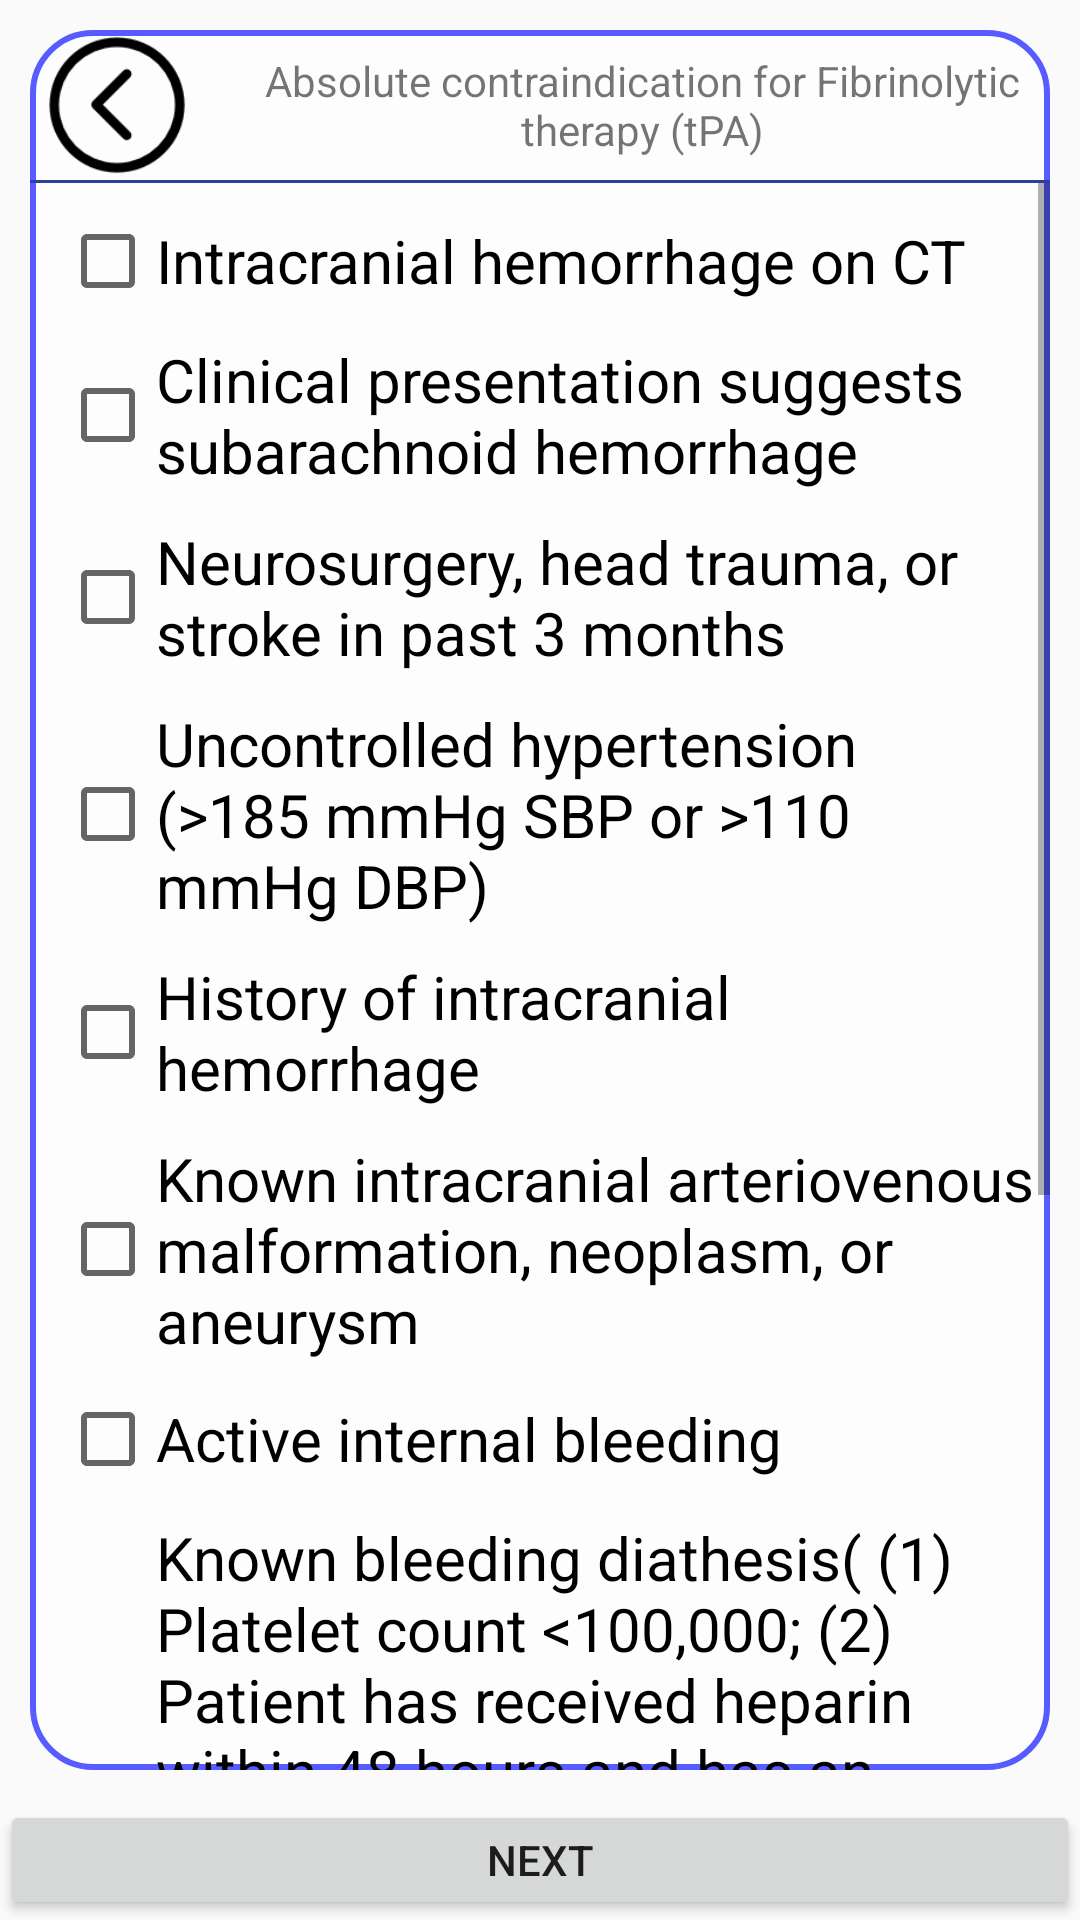

Icons on this 1080px×1920px Android screen, each with its box as (x1, y1, x2, y2):
prev: (49, 37, 185, 173)
